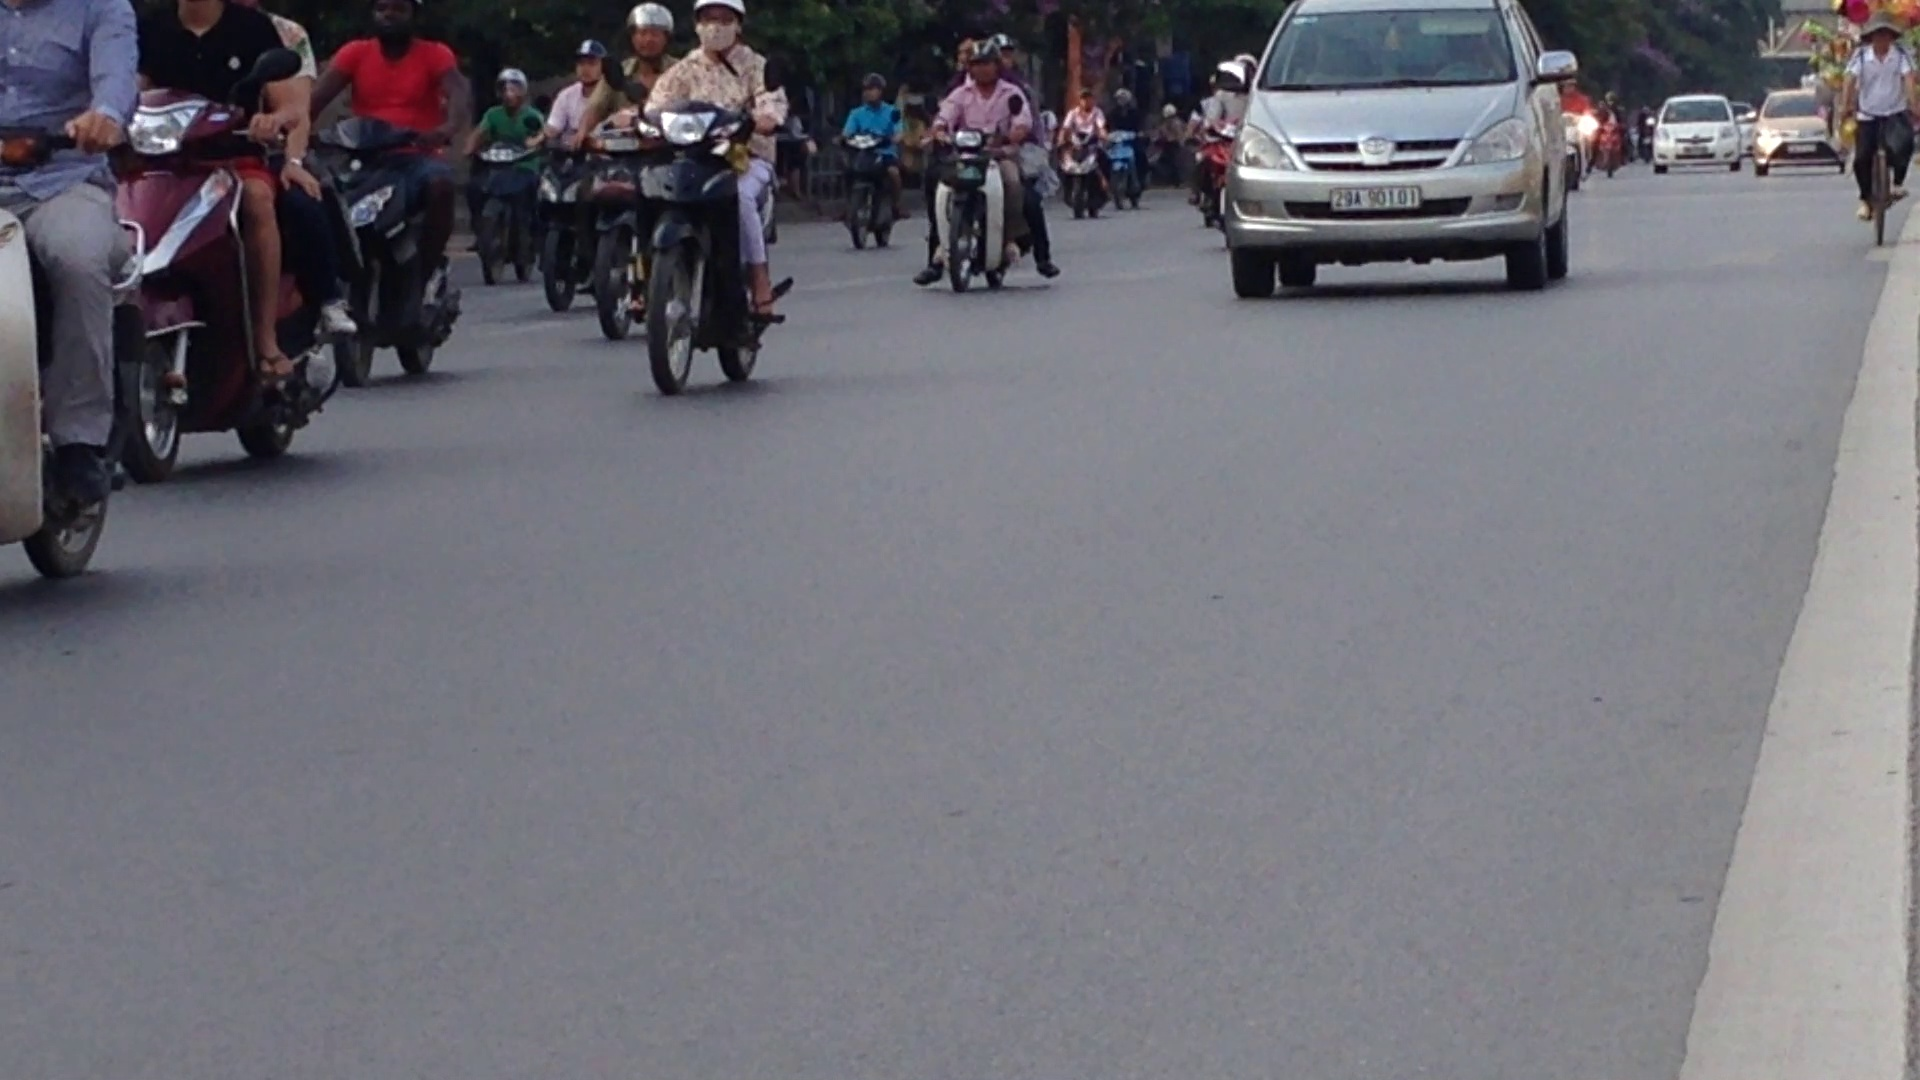person: (1321, 180, 1431, 213)
